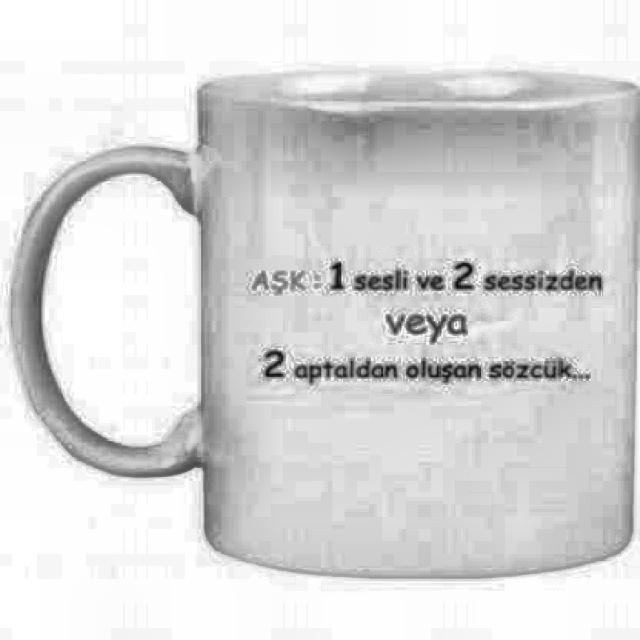Mug: (12, 72, 638, 579)
